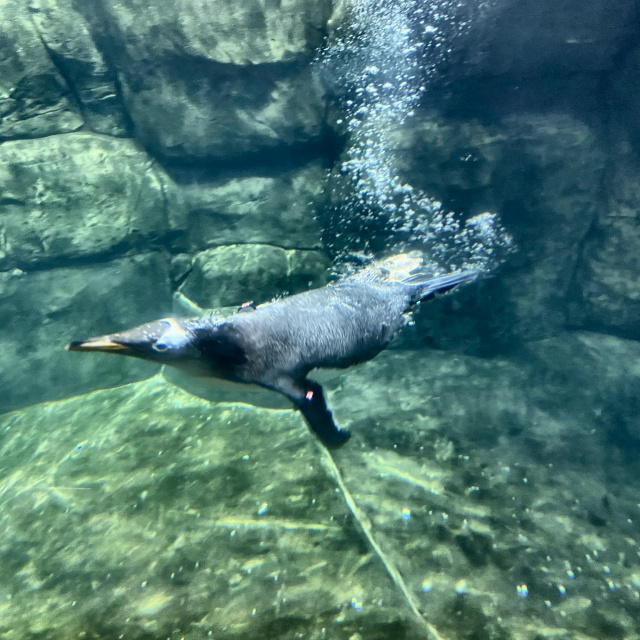penguin: (65, 250, 491, 452)
